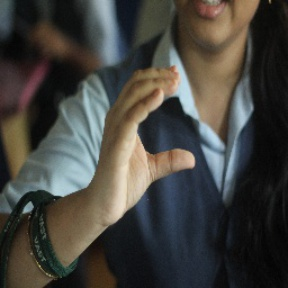C: (110, 65, 202, 182)
